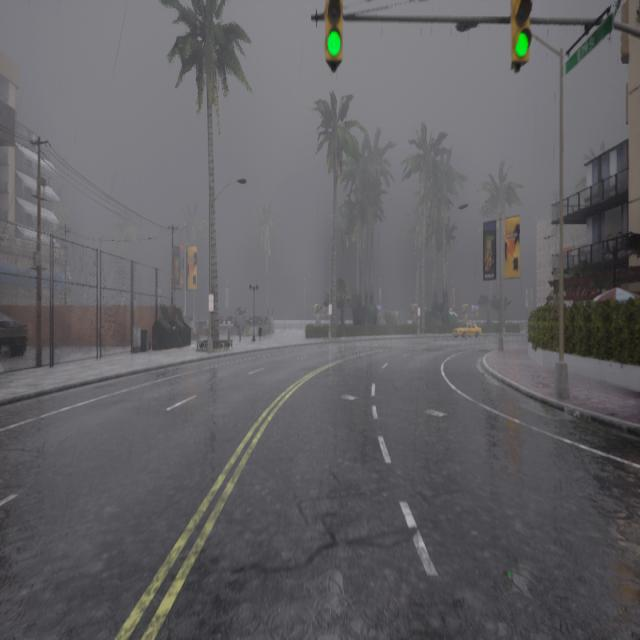9: (512, 0, 532, 76), (323, 0, 344, 71)
bien_hieu_lenh: (514, 24, 532, 63), (326, 25, 342, 59)
